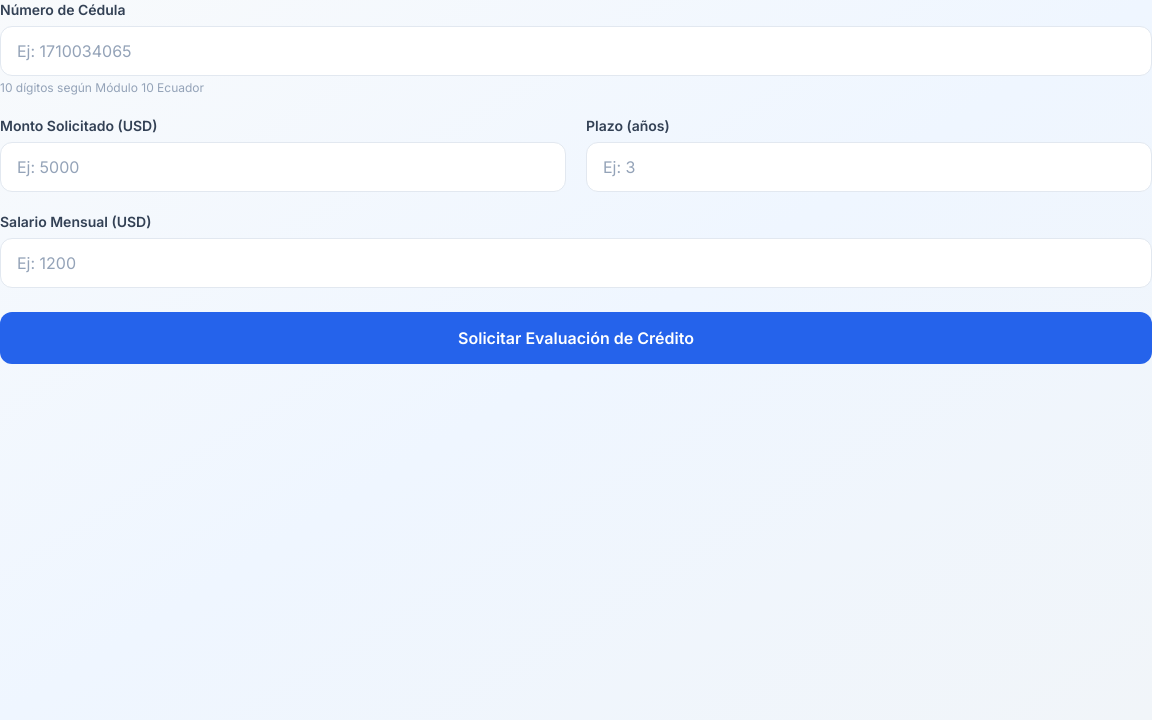
EvaluationForm › shows API error message on failure
This screenshot has width=1152, height=720.
Type "1710034065" into the field labelled "Número de Cédula" at coordinates (576, 51), box [0, 26, 1151, 76]
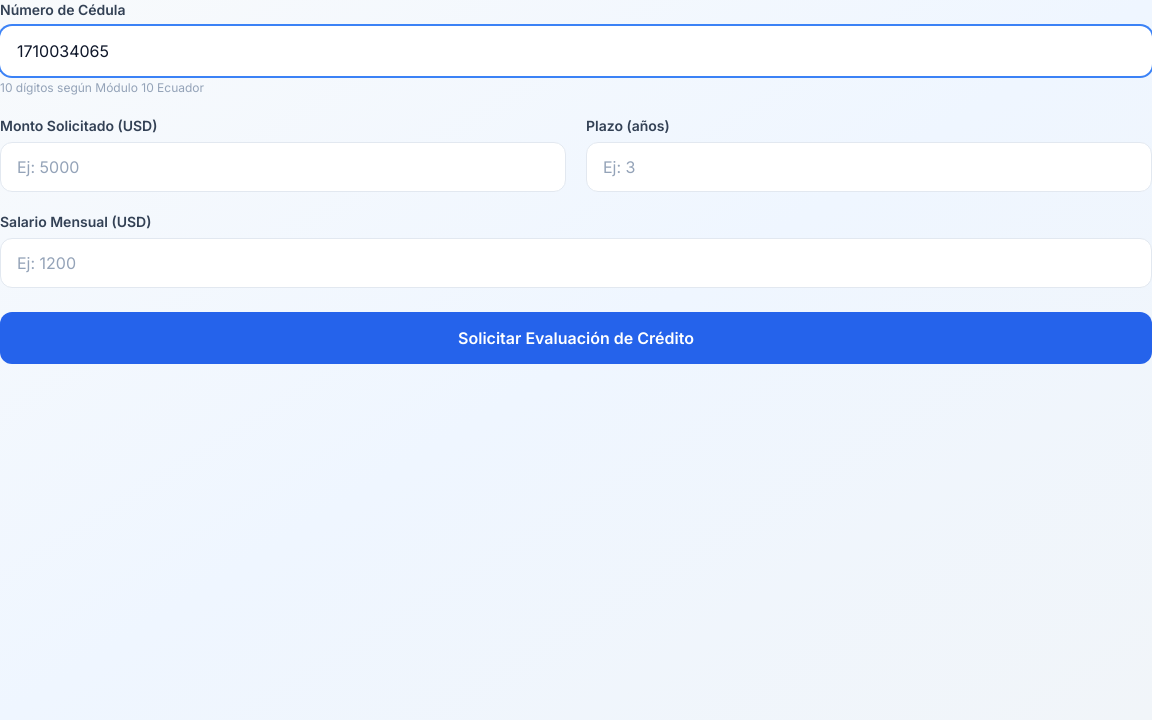
Type "5000" into the number field labelled "Monto Solicitado (USD)" at coordinates (283, 167), box [0, 142, 566, 192]
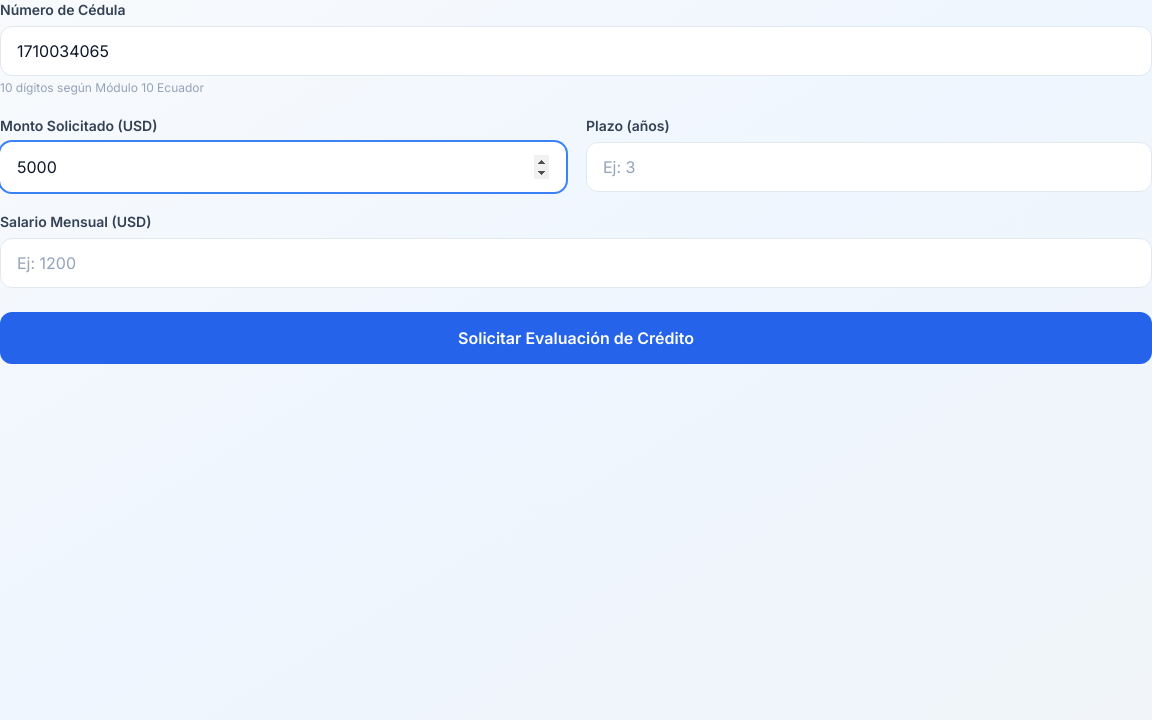
Type "3" into the number field labelled "Plazo (años)" at coordinates (869, 167), box [586, 142, 1151, 192]
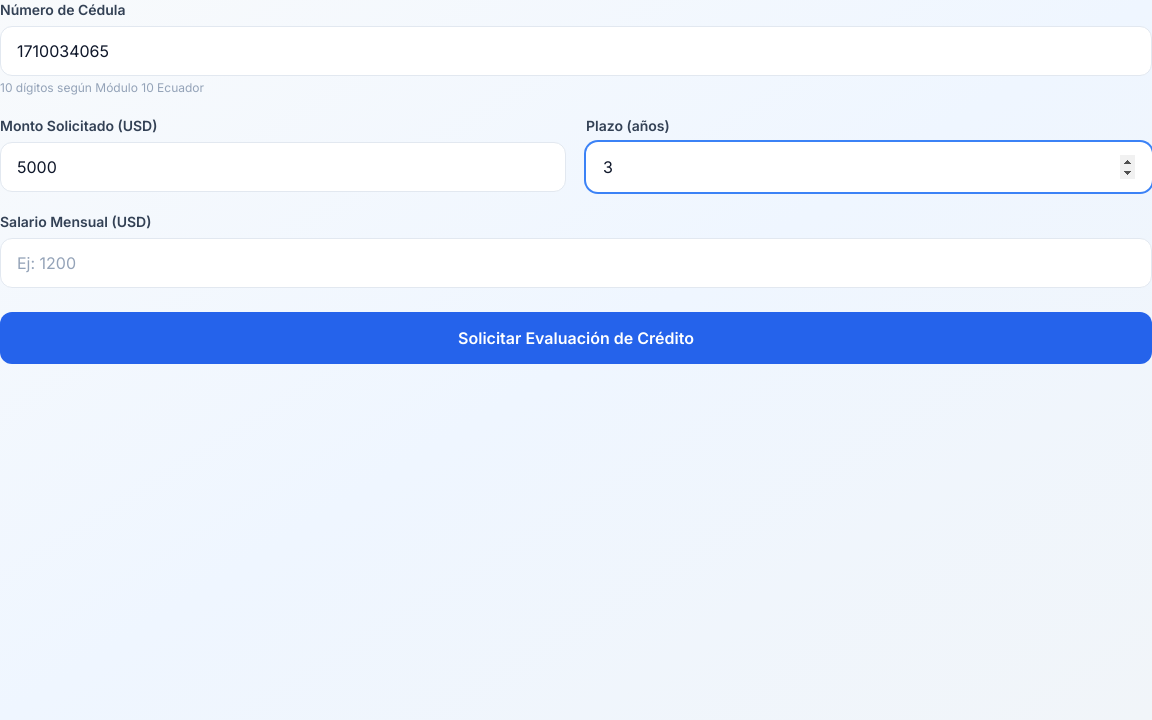
Type "1200" into the number field labelled "Salario Mensual (USD)" at coordinates (576, 263), box [0, 238, 1151, 288]
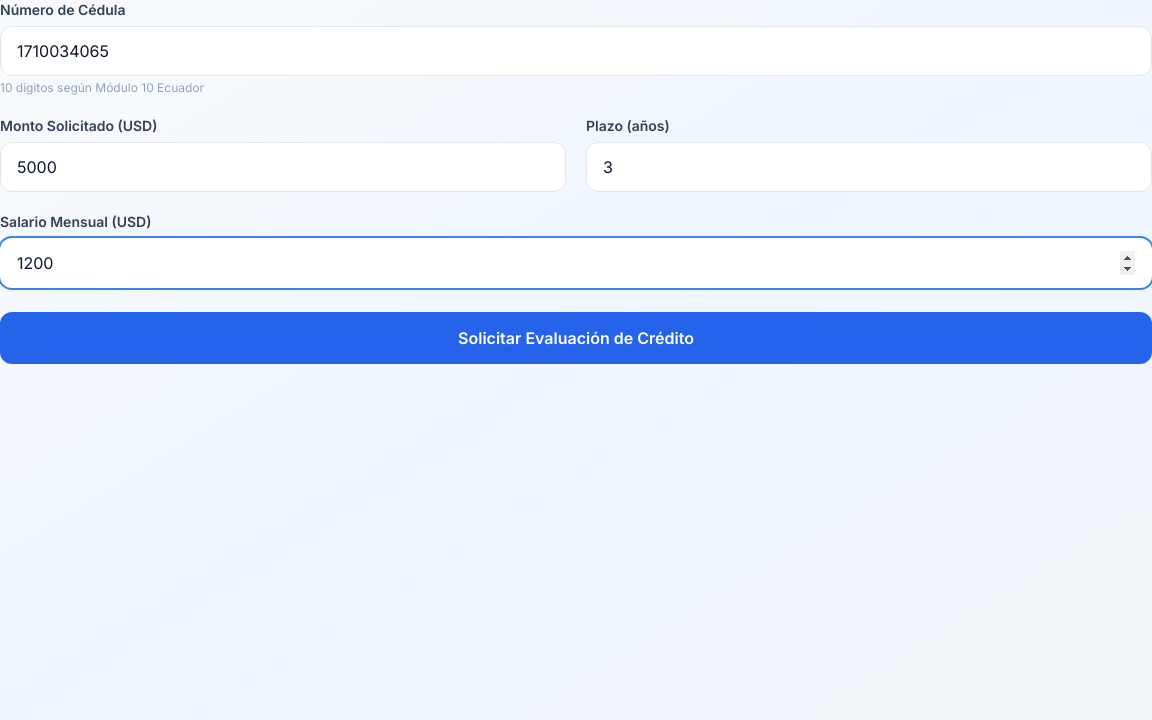
Click the button "Solicitar Evaluación de Crédito" at coordinates (576, 338), box [0, 312, 1151, 364]
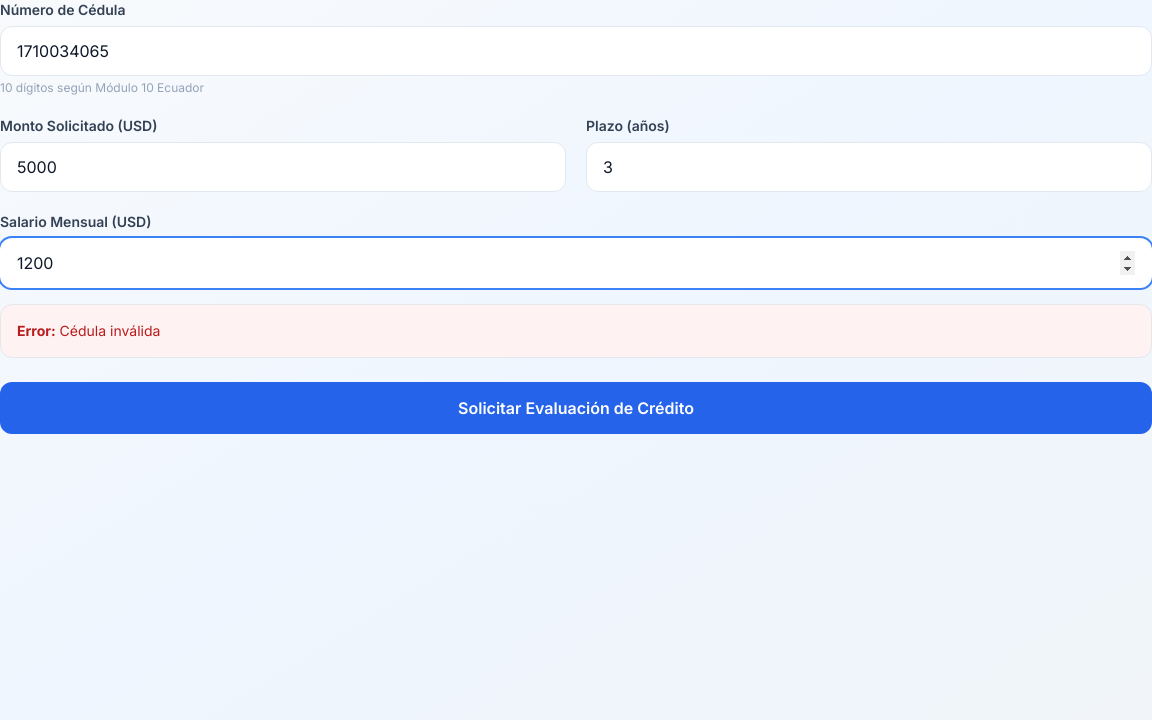
Expected: the message shows "Cédula inválida", [60, 322, 160, 339]
